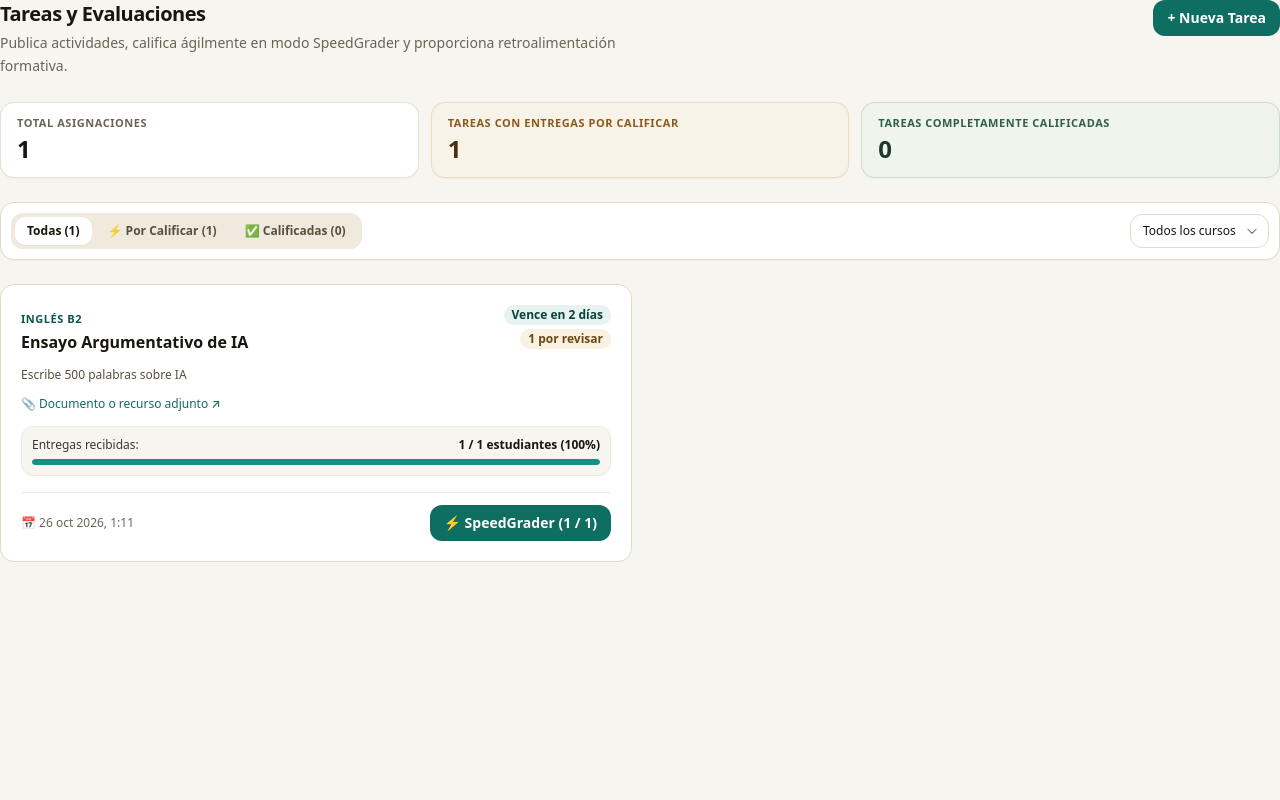
AssignmentsPanel (Minimalist & EdTech UX) › opens TeacherSpeedGrader modal when teacher clicks on SpeedGrader button
Step 1. Click the button "⚡ SpeedGrader (1 / 1)" → coordinates (520, 523), box [430, 505, 611, 541]
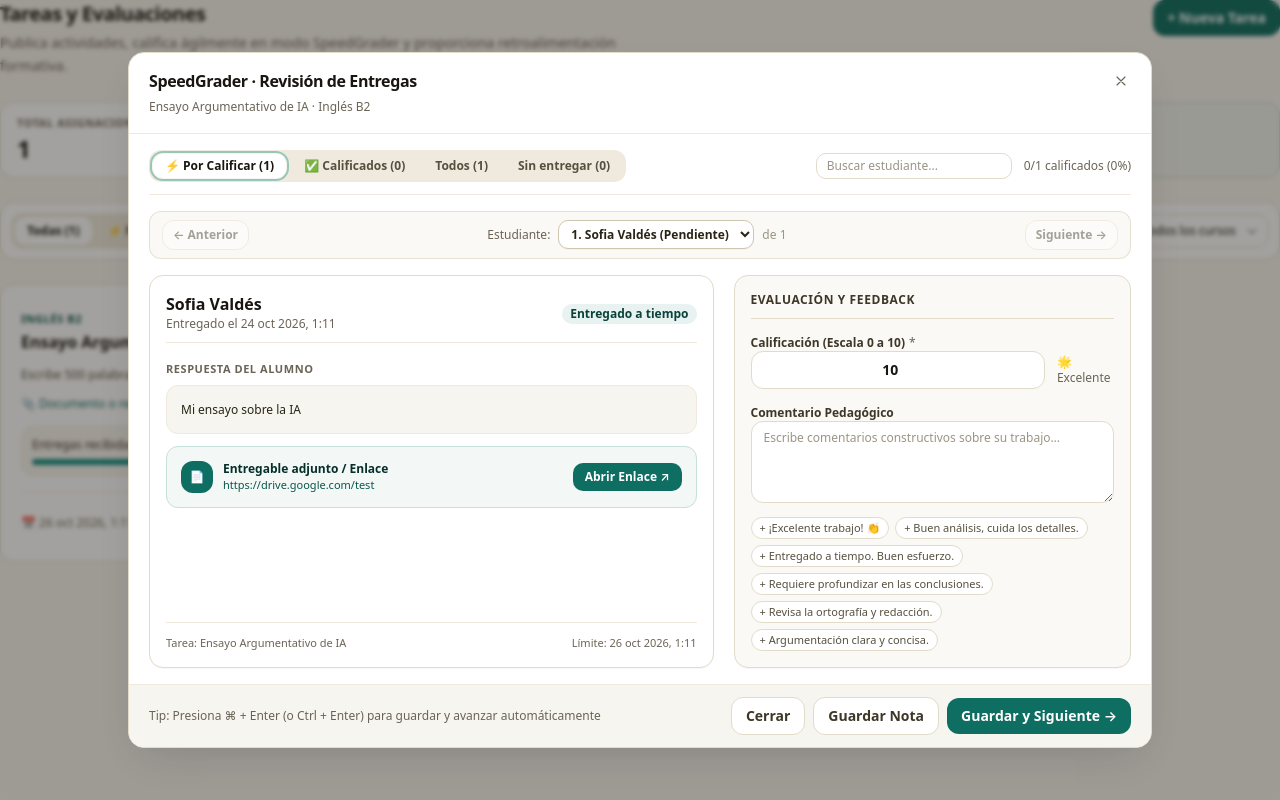
Expected: the heading "SpeedGrader · Revisión de Entregas" is shown, [149, 69, 417, 93]
Expected: the text "Respuesta del Alumno" is shown, [166, 361, 313, 376]
Expected: the text "Mi ensayo sobre la IA" is shown, [166, 385, 696, 434]
